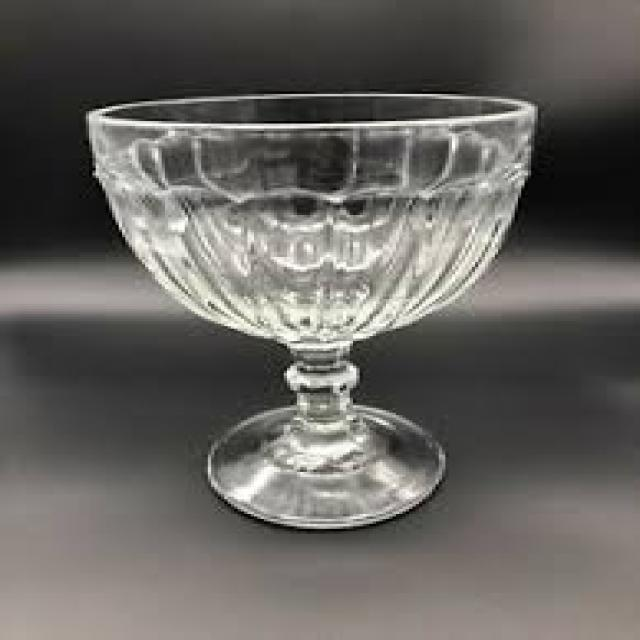Glass-Bottle: (50, 74, 559, 551)
